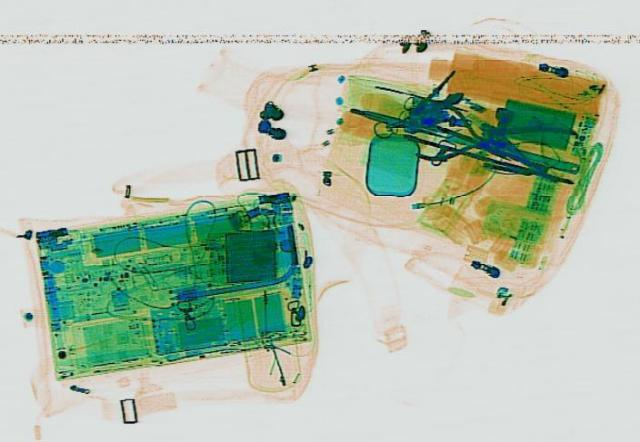Pliers: (456, 102, 610, 187), (402, 100, 524, 173)
